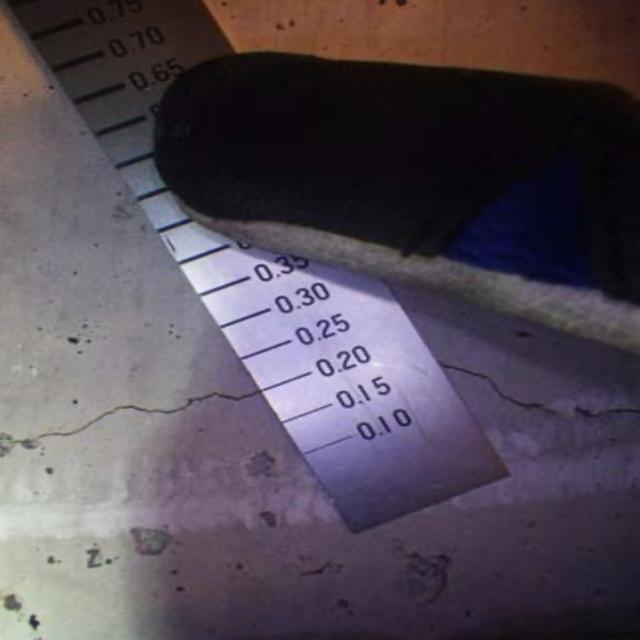crack: (444, 327, 640, 463), (0, 376, 286, 468)
